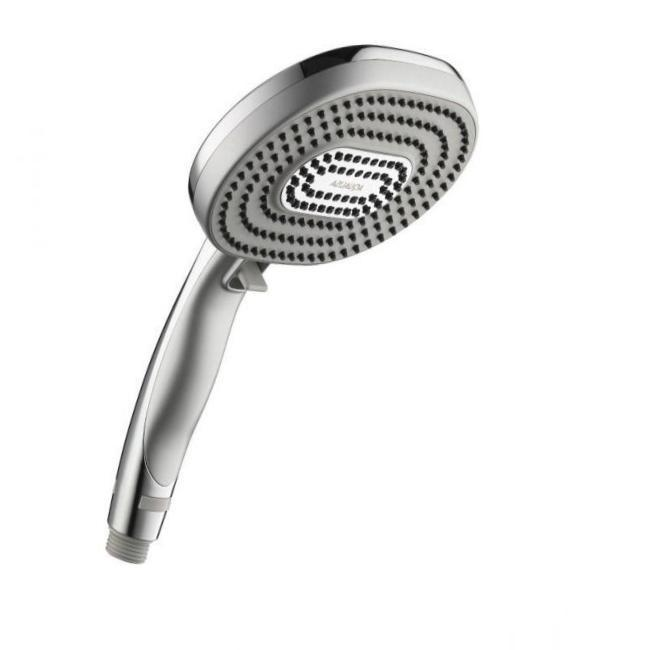Ducha: (78, 52, 486, 582)
